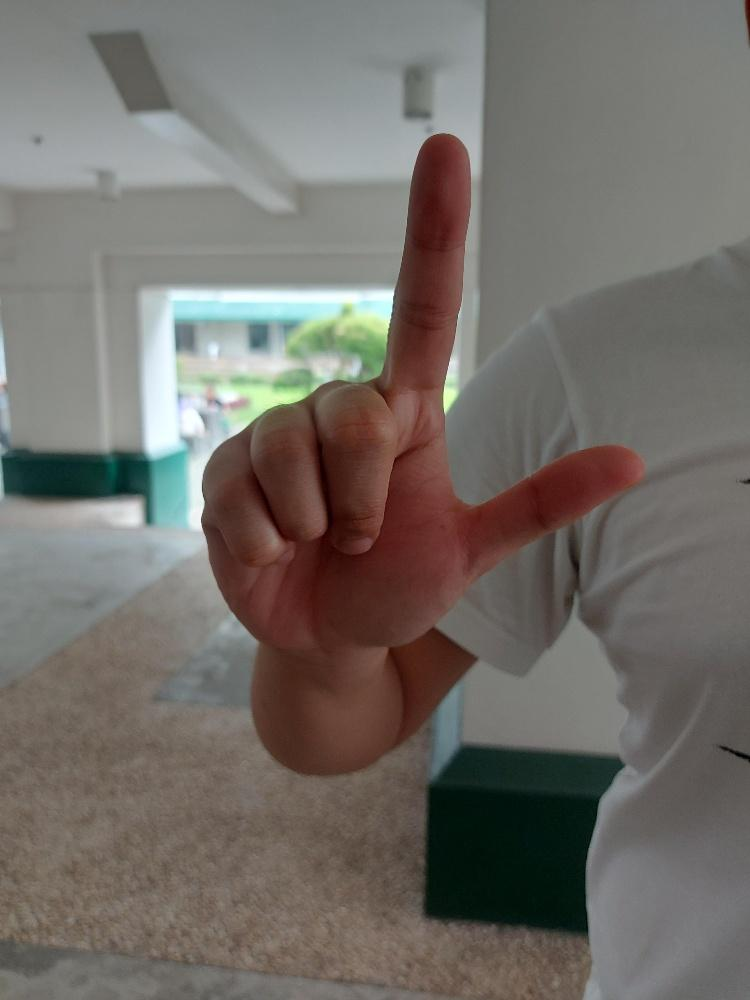l: (196, 128, 650, 652)
